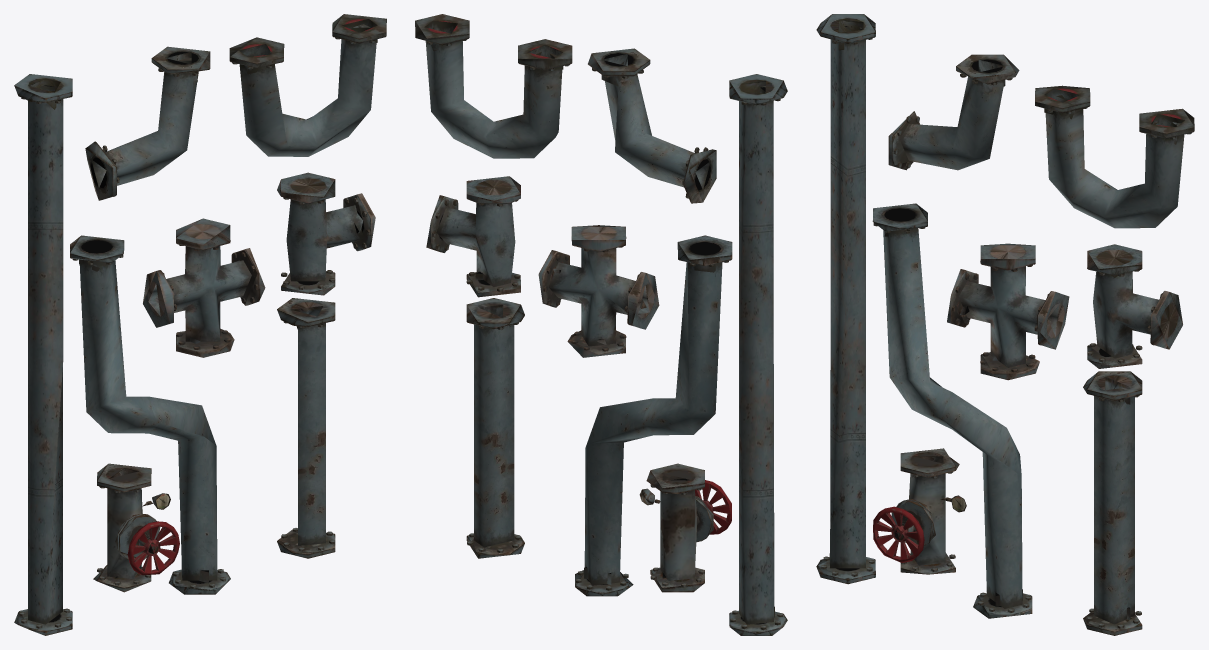
Rendered from pipes.glb.
3 views of the same model, side by side, from view 1: azimuth 30°, elevation 25°; view 2: azimuth 150°, elevation 25°; view 3: azimuth 330°, elevation 25° (orthographic).
Visible parts, largest first — view 1: modular_industrial_pipes_01_pipe01, modular_industrial_pipes_01_pipe05; view 2: modular_industrial_pipes_01_pipe01, modular_industrial_pipes_01_pipe05; view 3: modular_industrial_pipes_01_pipe01, modular_industrial_pipes_01_pipe05.
Part boxes in pixels (left/top/right/bottom): modular_industrial_pipes_01_pipe01: left=14, top=46, right=335, bottom=635; modular_industrial_pipes_01_pipe05: left=93, top=14, right=386, bottom=592; modular_industrial_pipes_01_pipe01: left=466, top=48, right=787, bottom=635; modular_industrial_pipes_01_pipe05: left=415, top=14, right=731, bottom=592; modular_industrial_pipes_01_pipe01: left=816, top=14, right=1142, bottom=635; modular_industrial_pipes_01_pipe05: left=873, top=85, right=1194, bottom=574.
Size of the model in its own units: 1.4 by 1.95 by 0.3073.
2 materials, 2 textured.
